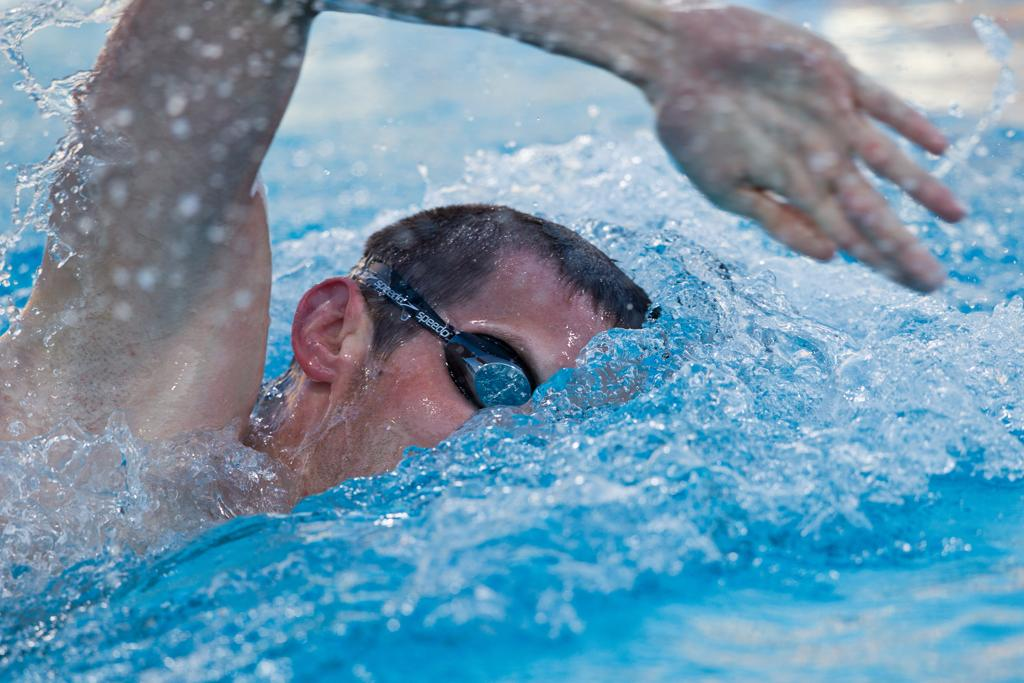face: (394, 286, 588, 560)
